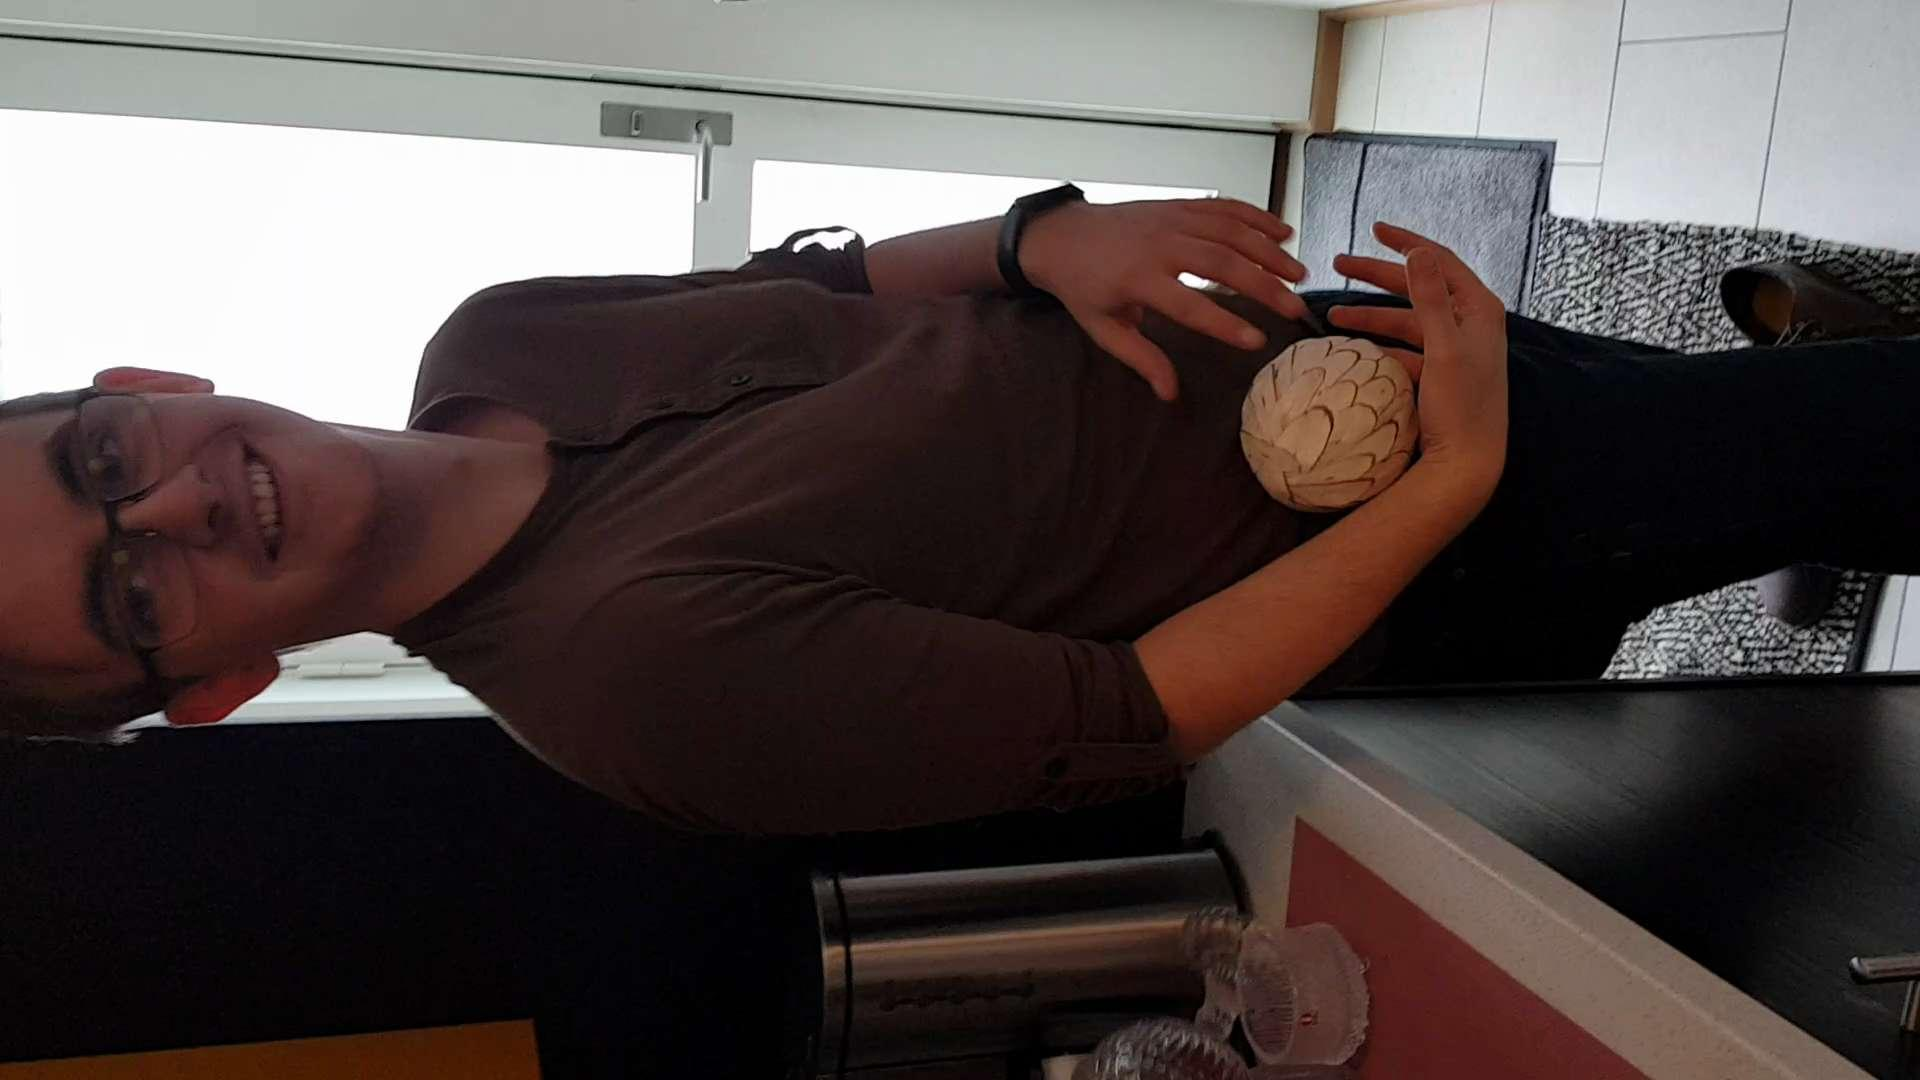Sphere: (1240, 334, 1418, 508)
